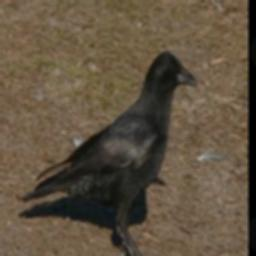Crow: (19, 47, 193, 256)
